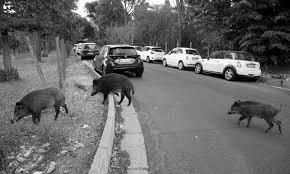wildboar: (221, 97, 285, 136), (8, 85, 70, 125), (88, 72, 136, 109)
